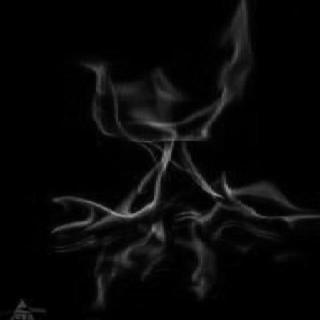Fire: (0, 0, 316, 309)
